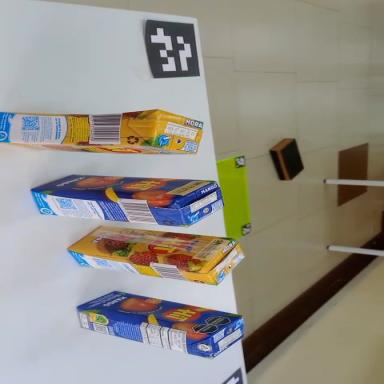HIT-MANGO: (73, 284, 247, 364), (30, 172, 224, 228)
HIT-MORA: (66, 221, 245, 288), (0, 107, 203, 155)
cara_F: (76, 283, 243, 342), (66, 223, 233, 271), (29, 172, 216, 203), (0, 143, 195, 155)
